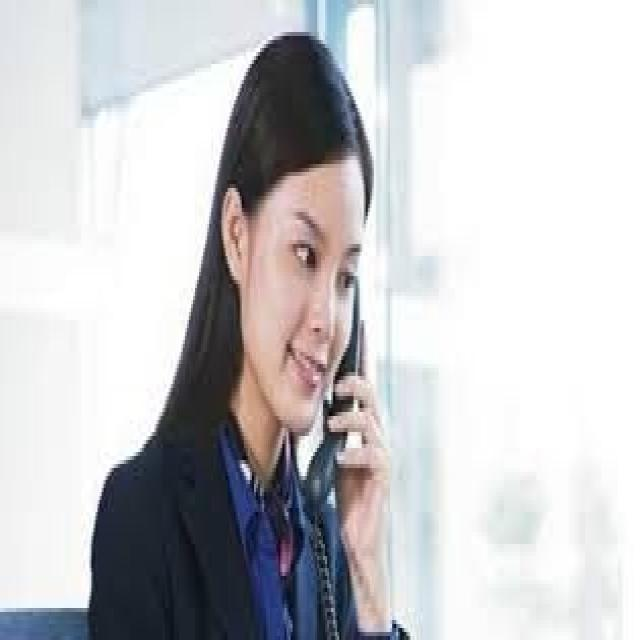phone: (321, 220, 410, 580)
